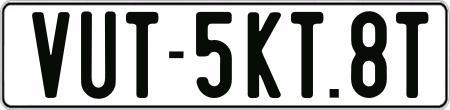5: (195, 12, 231, 99)
8: (349, 9, 387, 100)
K: (248, 9, 286, 97)
T: (395, 9, 432, 98), (125, 9, 160, 101), (289, 12, 324, 98)
U: (79, 11, 116, 104)
V: (29, 12, 67, 100)
